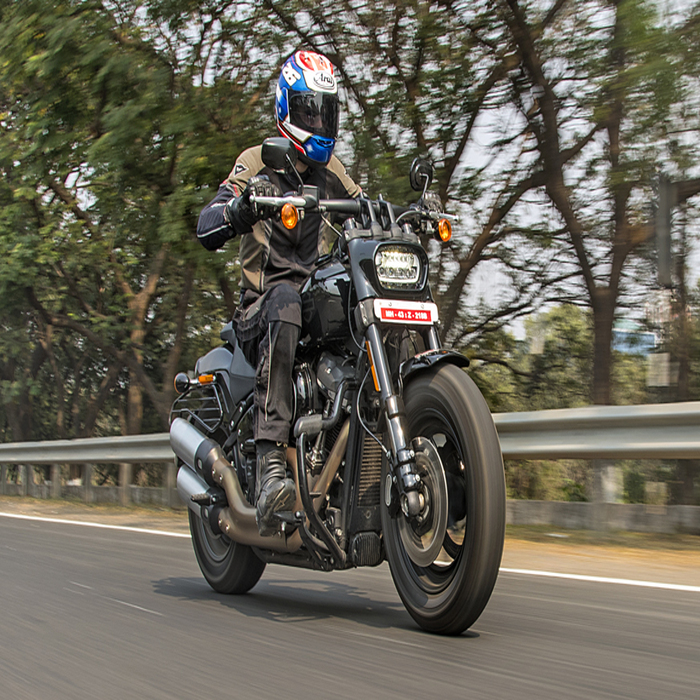h: (273, 49, 342, 168)
n: (371, 294, 439, 331)
